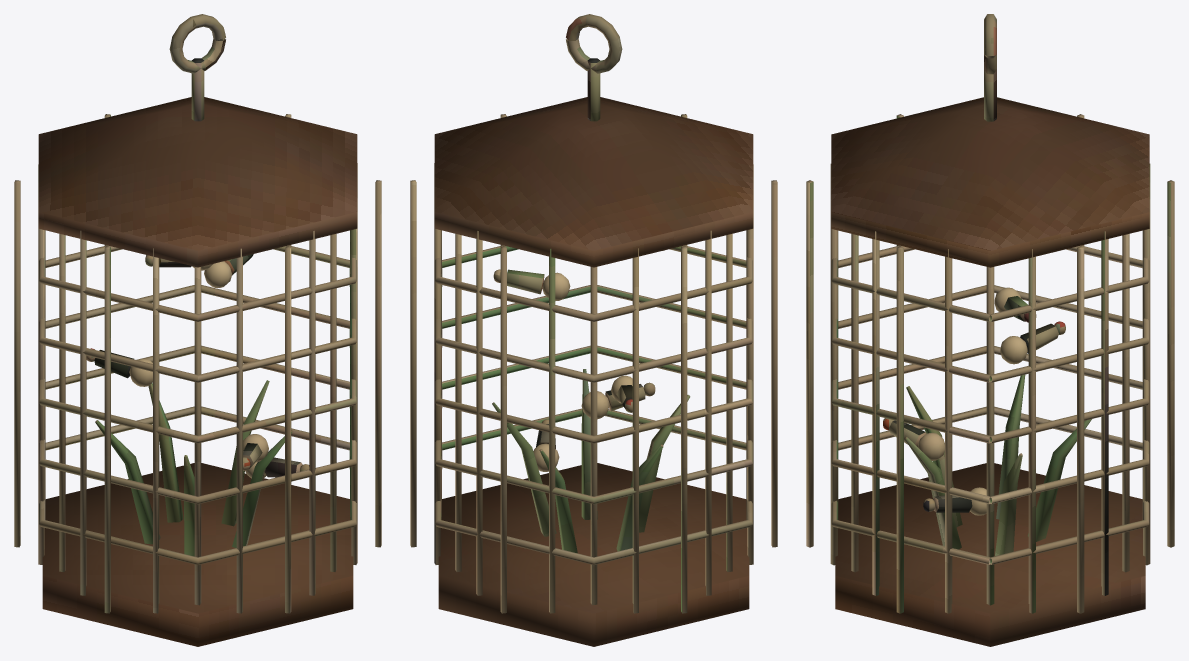
The model's file is lantern_hotaru.glb.
3 renders of one model, left to right at view 1: azimuth 30°, elevation 25°; view 2: azimuth 150°, elevation 25°; view 3: azimuth 270°, elevation 25°, orthographic.
Parts seen in each view (by area): view 1: prop_lantern_hotaru_wood, prop_lantern_hotaru_felt, prop_lantern_hotaru_paper; view 2: prop_lantern_hotaru_wood, prop_lantern_hotaru_felt, prop_lantern_hotaru_paper; view 3: prop_lantern_hotaru_wood, prop_lantern_hotaru_felt, prop_lantern_hotaru_paper.
Part boxes in pixels (<box>): prop_lantern_hotaru_wood: <box>38,97,357,646</box>; prop_lantern_hotaru_felt: <box>14,14,381,613</box>; prop_lantern_hotaru_paper: <box>129,261,268,478</box>; prop_lantern_hotaru_wood: <box>434,97,753,646</box>; prop_lantern_hotaru_felt: <box>410,14,777,613</box>; prop_lantern_hotaru_paper: <box>533,272,639,471</box>; prop_lantern_hotaru_wood: <box>831,97,1149,646</box>; prop_lantern_hotaru_felt: <box>806,14,1174,613</box>; prop_lantern_hotaru_paper: <box>918,287,1027,515</box>.
Size of the model in its own units: 0.16 by 0.2661 by 0.1602.
3 materials, 3 textured.
